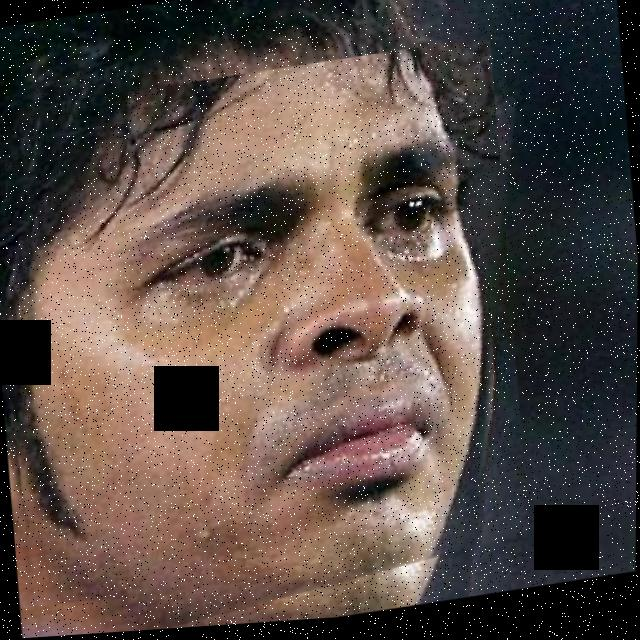sad: (0, 40, 538, 640)
